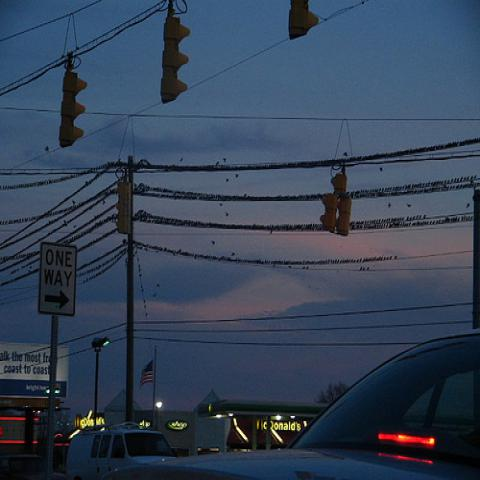car: (124, 332, 478, 478)
truck: (66, 424, 177, 480)
